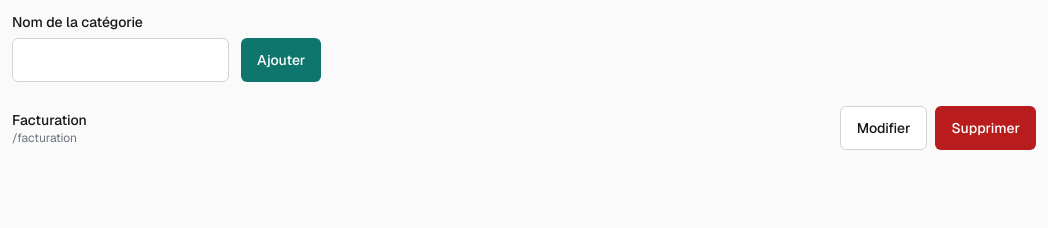
Scenario: HelpCenterCategoriesSection › liste les categories et en ajoute une nouvelle
Expected: the text "Facturation" is shown, [12,110,87,130]
Type "Compte" into the field labelled "Nom de la catégorie" at (120, 60), box [12,38,229,82]
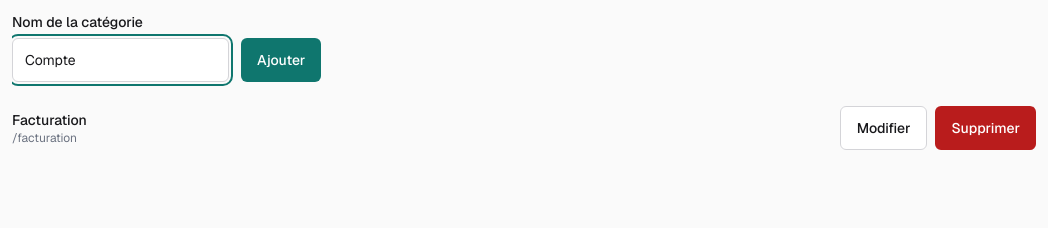
Click the button "Ajouter" at (281, 60), box [241,38,321,82]
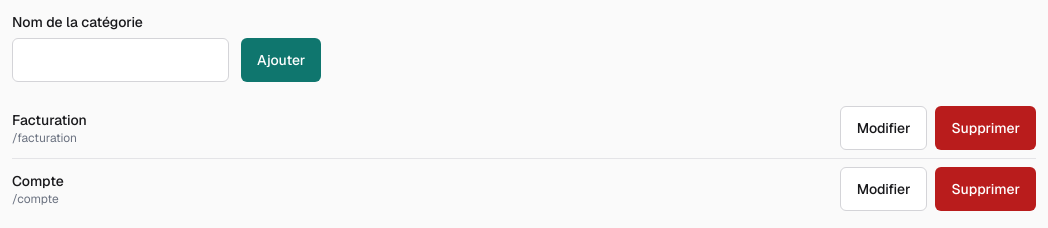
Expected: the text "Compte" is shown, [12,171,64,191]
